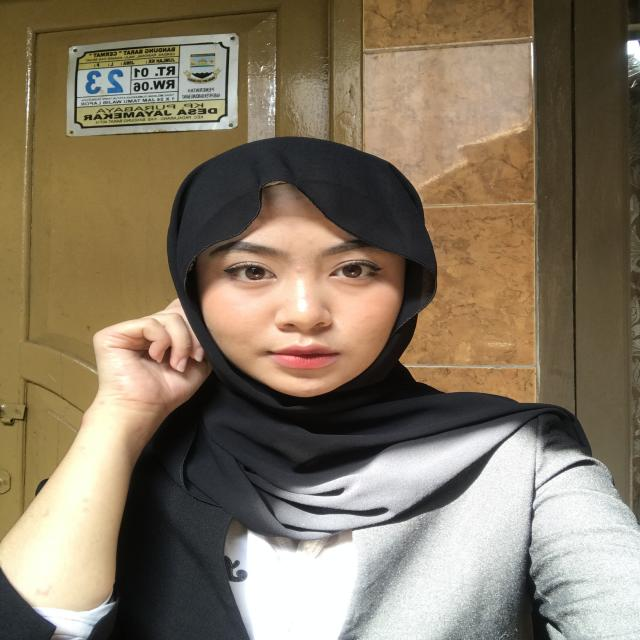ibu: (72, 290, 218, 425)
